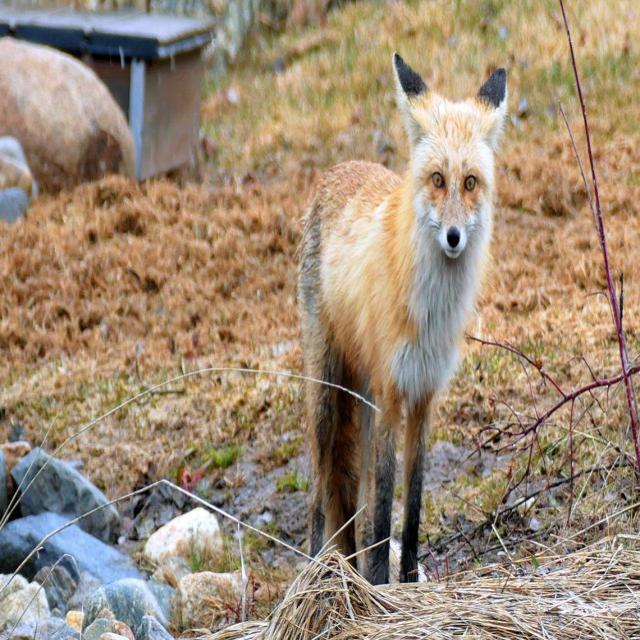fox: (294, 50, 508, 585)
